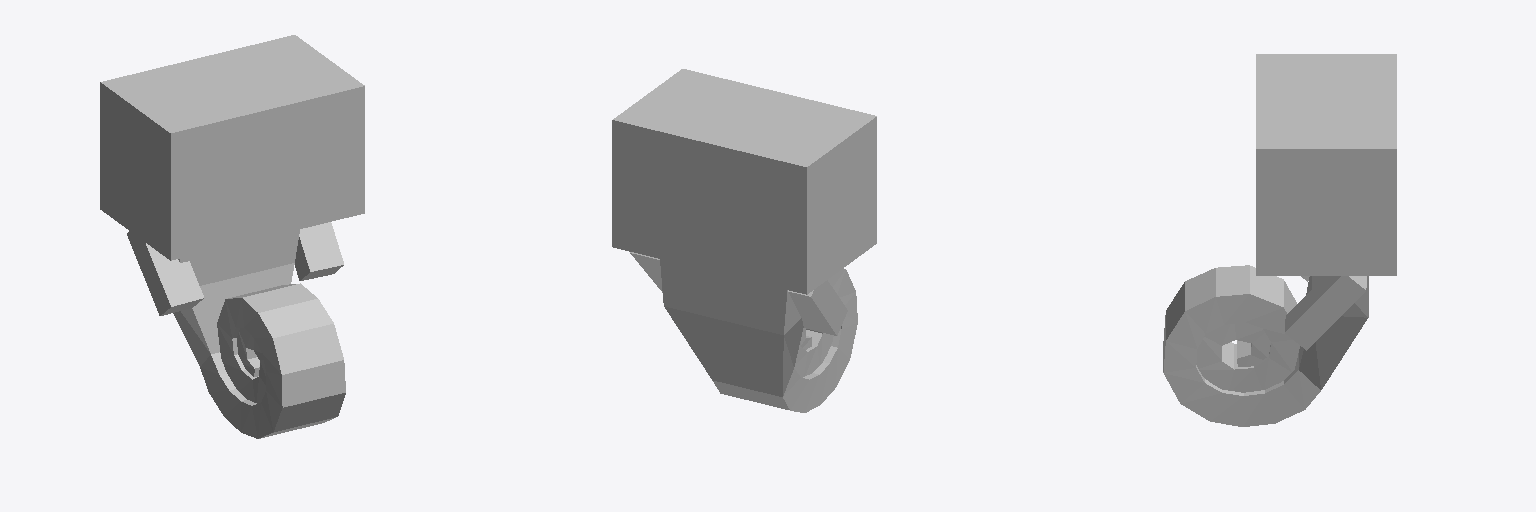
Rendered from citizen.obj.
The picture shows the model from 3 angles: view 1: azimuth 30°, elevation 25°; view 2: azimuth 150°, elevation 25°; view 3: azimuth 270°, elevation 25°; orthographic projection.
Size of the model in its own units: 8 by 12.17 by 8.3.